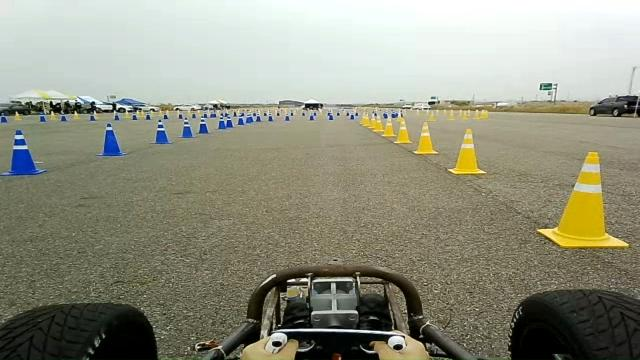blue cone: (0, 129, 47, 175), (94, 123, 128, 156), (150, 119, 173, 144), (178, 119, 196, 138), (198, 119, 210, 133), (217, 114, 226, 130), (225, 114, 234, 128), (39, 108, 48, 122), (60, 108, 68, 121), (144, 110, 154, 120), (242, 114, 250, 126), (255, 110, 263, 122), (0, 110, 7, 122), (237, 113, 244, 125), (132, 110, 140, 120), (114, 108, 120, 120), (89, 111, 95, 121)
yellow cone: (536, 151, 628, 248), (446, 128, 486, 175), (412, 122, 438, 154), (393, 120, 412, 144), (381, 116, 397, 138), (372, 114, 386, 132), (367, 112, 378, 129), (359, 111, 370, 125), (136, 109, 145, 119), (72, 110, 80, 120), (14, 111, 22, 120), (50, 110, 57, 120), (123, 109, 130, 119)
